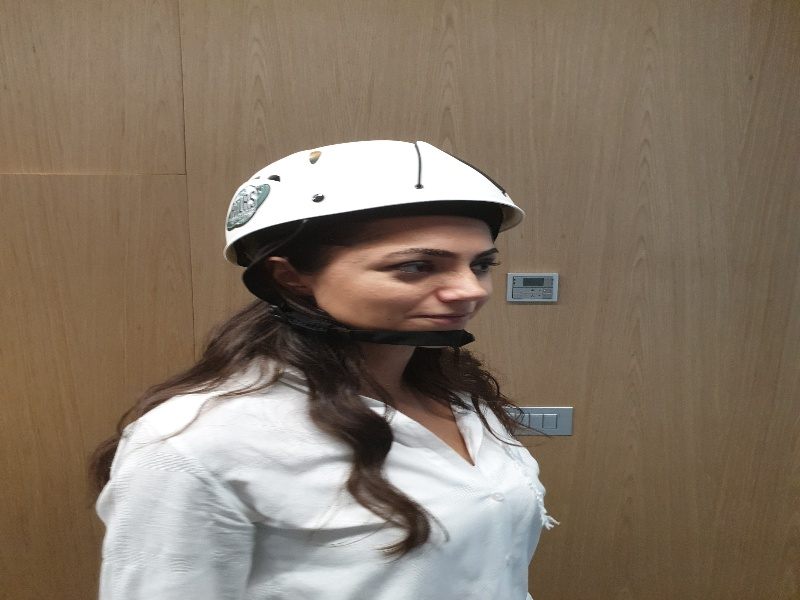Baret: (216, 150, 531, 230)
